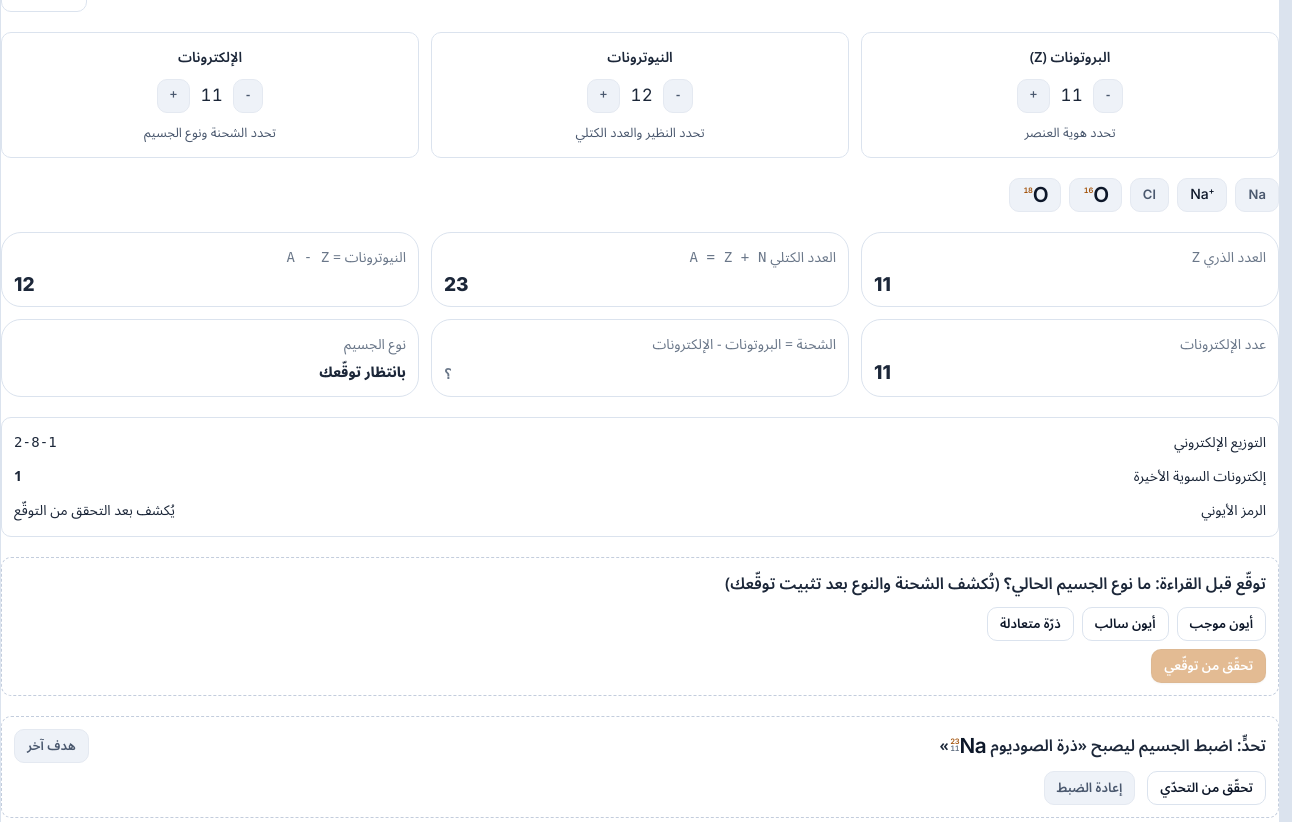
Test case: atom inventory lab › verifies the challenge against the target particle instead of faking success
Click the button "تحقّق من التحدّي". click: coordinates (1207, 788)
box: [1147, 771, 1266, 805]
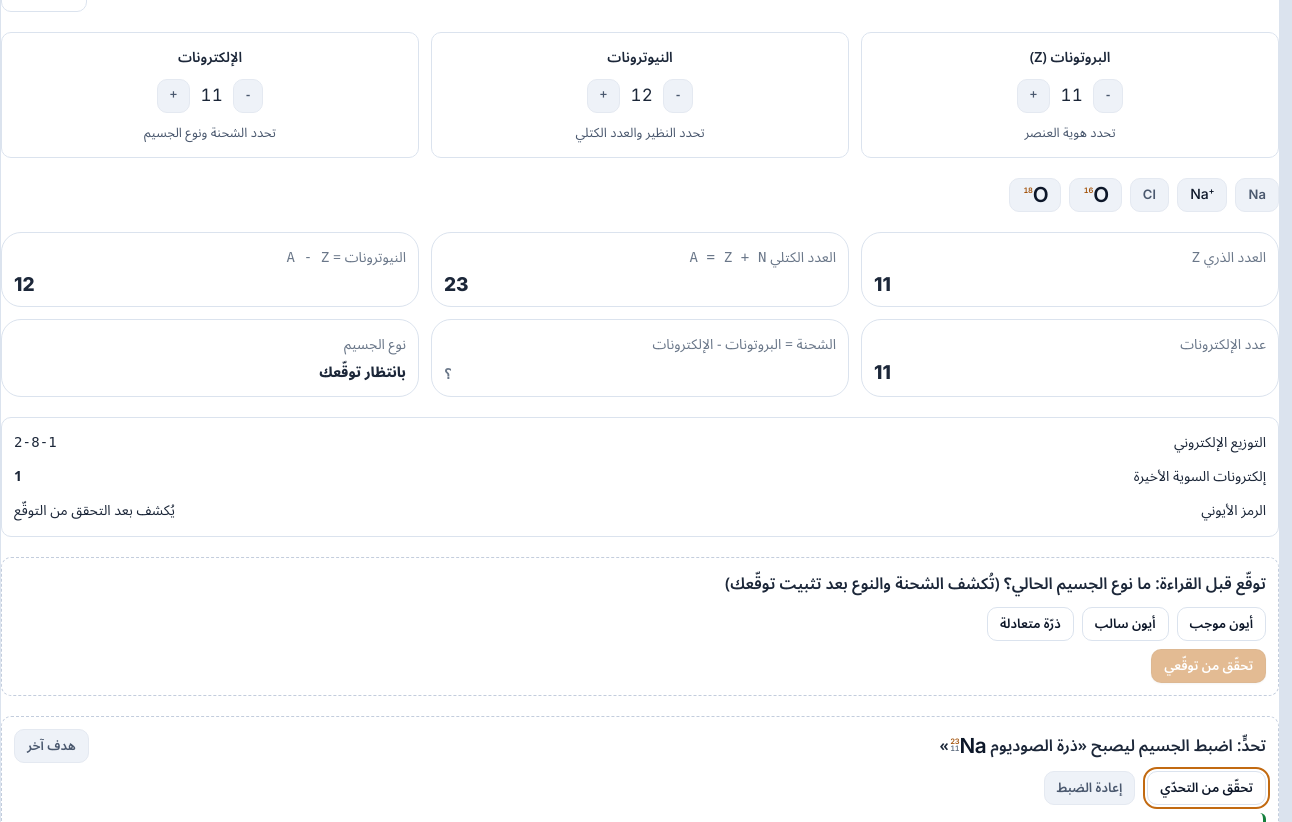
Click the button "هدف آخر". click: coordinates (51, 746)
box: [14, 729, 89, 763]
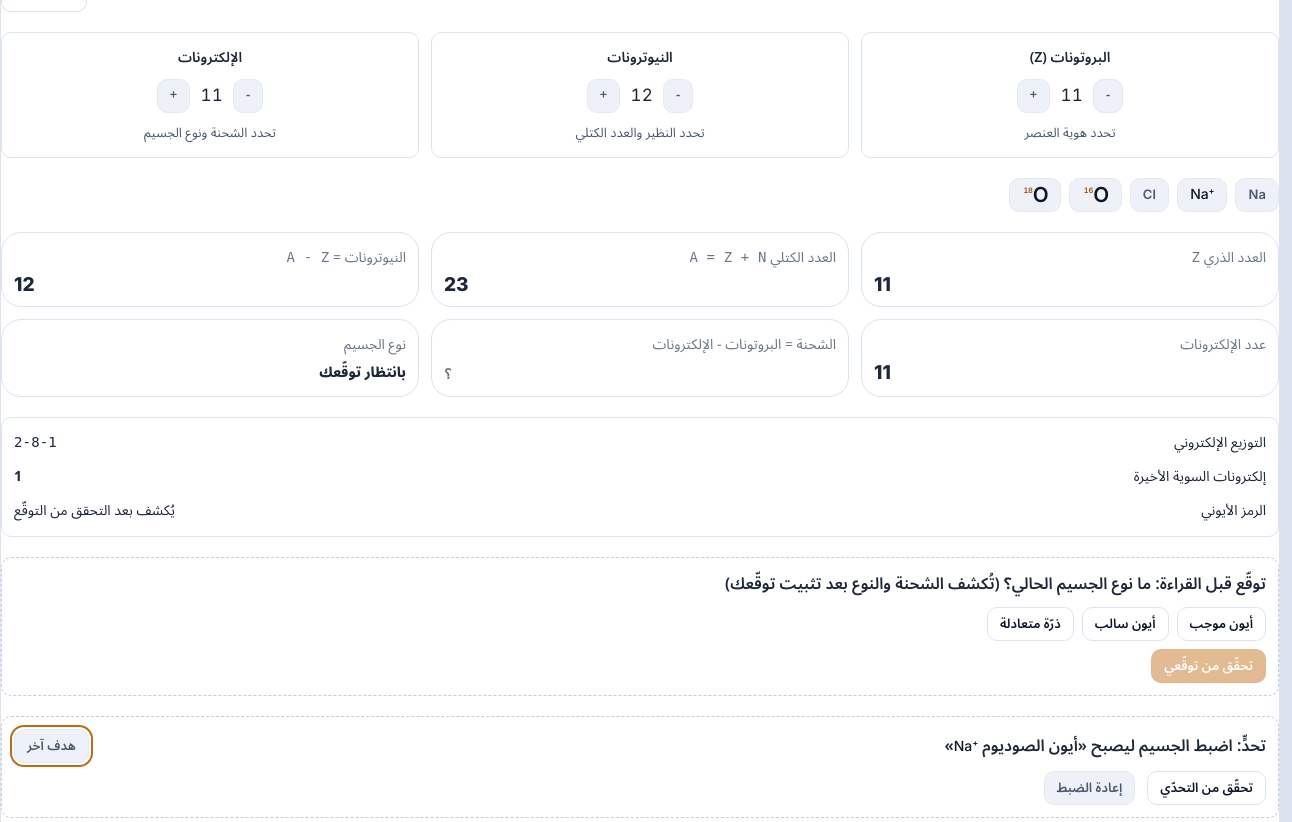
Click the button "تحقّق من التحدّي". click: coordinates (1207, 788)
box: [1147, 771, 1266, 805]
(page scrolled)
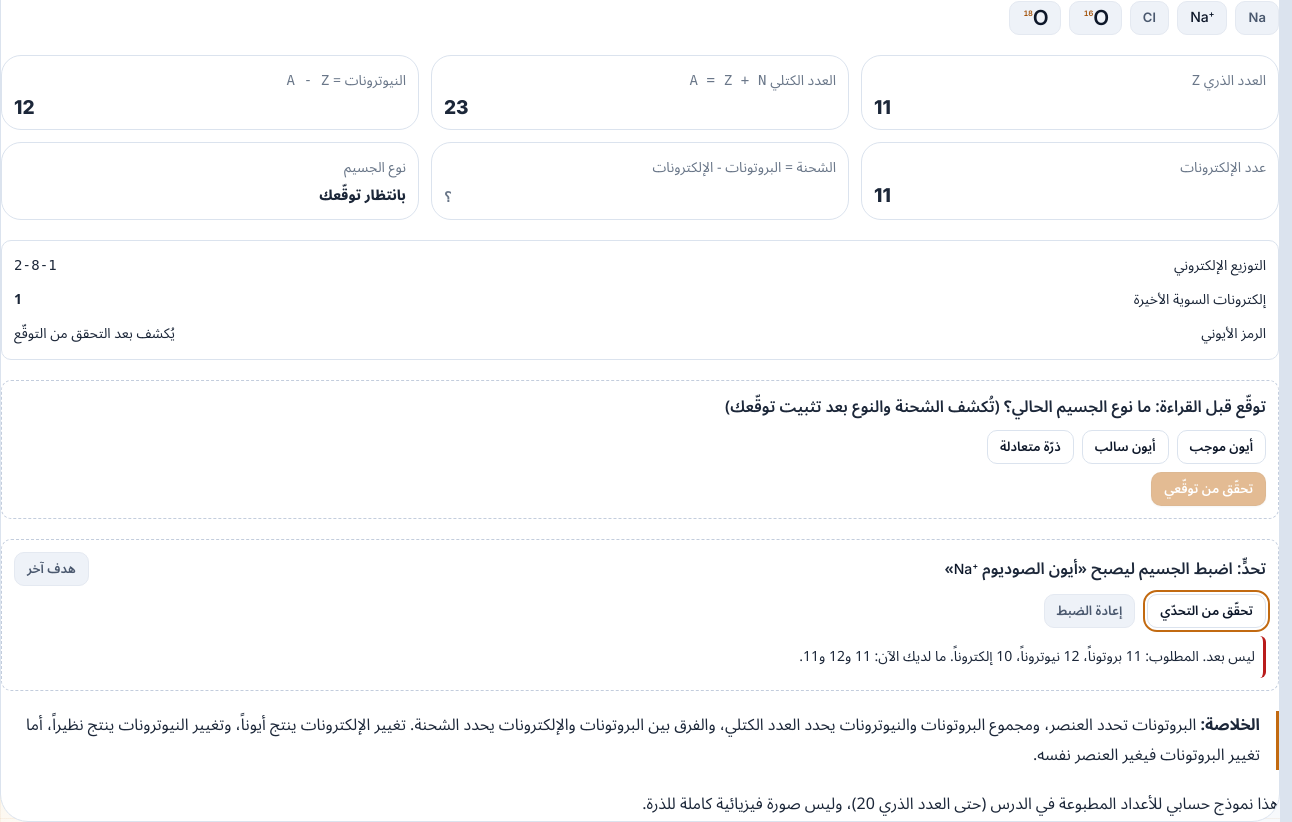
Expected: the text "ليس بعد" is shown, [799, 642, 1255, 671]
